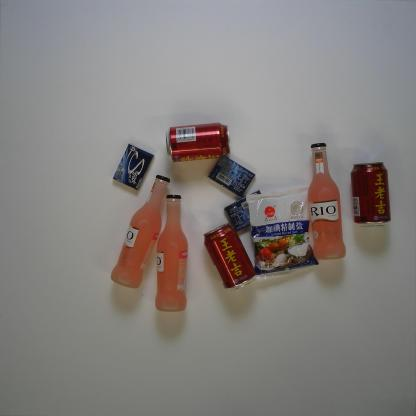Alcohol: (110, 173, 170, 289), (306, 142, 346, 262), (152, 194, 190, 313)
Drink: (203, 221, 258, 292), (165, 121, 232, 164), (350, 161, 392, 228)
Gum: (207, 154, 256, 198), (111, 142, 155, 191), (224, 190, 268, 232)
Seasoner: (246, 186, 320, 280)
